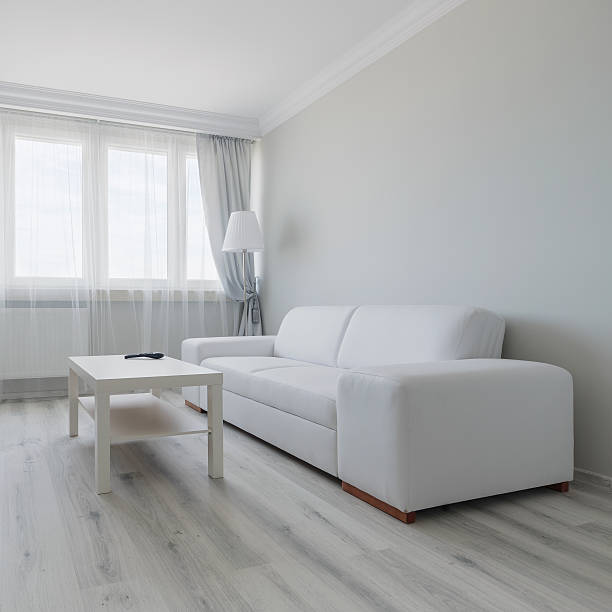floor lamp: (216, 206, 271, 333)
sofa: (175, 298, 580, 526)
table: (63, 351, 224, 501)
